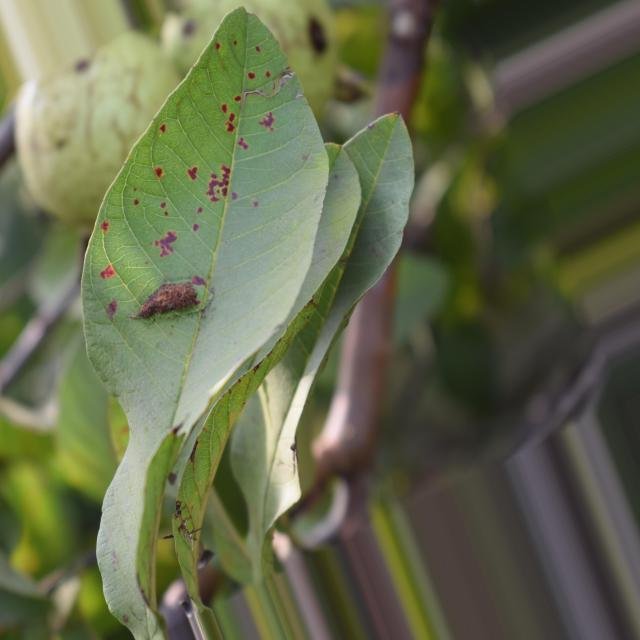Mummification: (82, 9, 361, 639)
